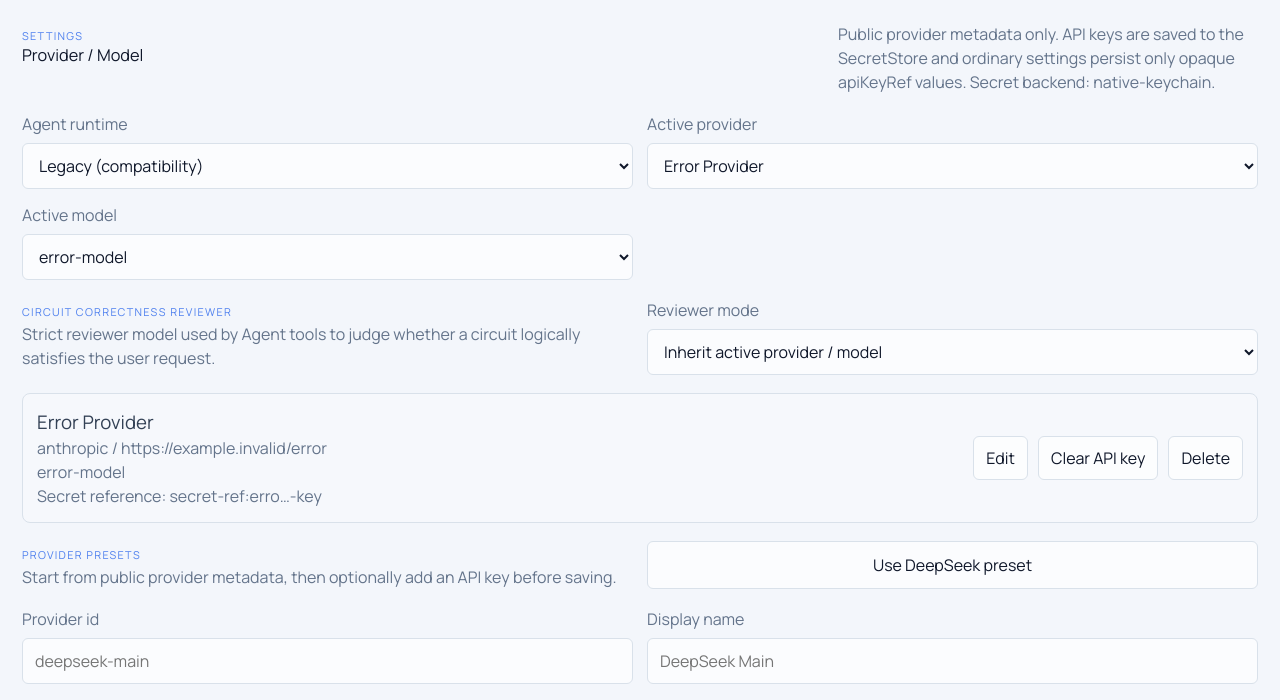
Scenario: ProviderModelSettings › shows a readable error when clearing a saved API key fails
Click the button "Clear API key": (1098, 458) [1038,436,1158,480]
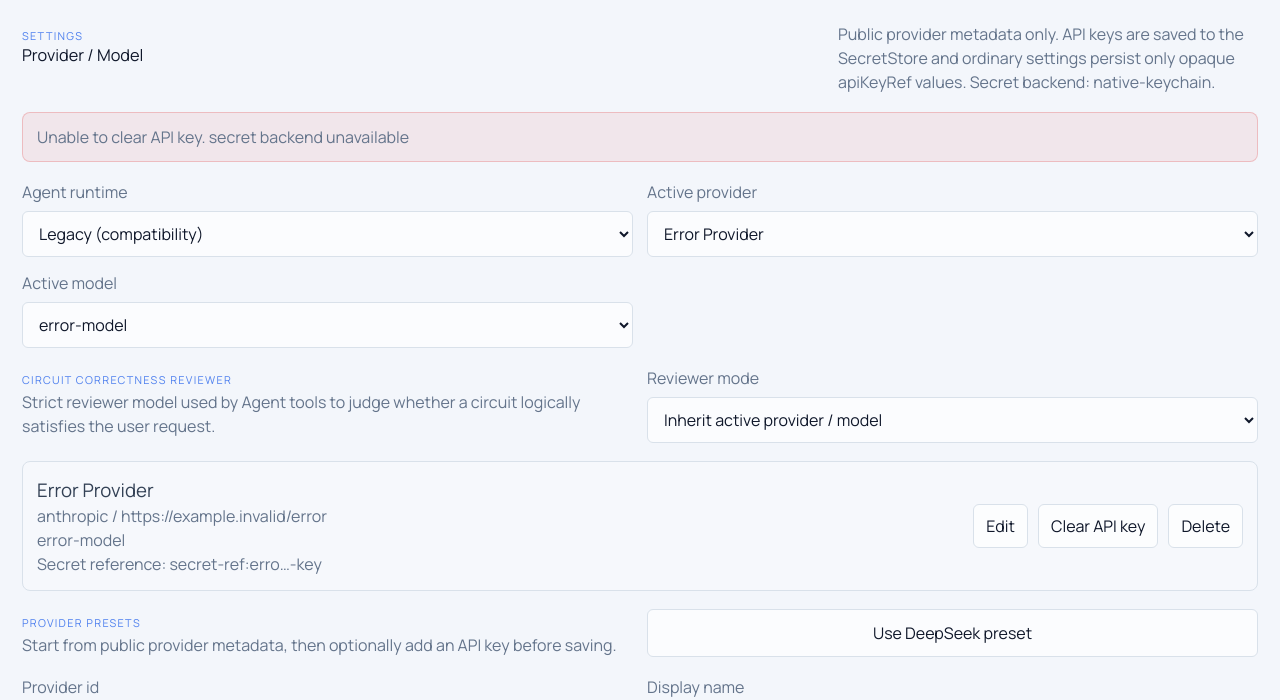
Now the text "Unable to clear API key" is shown, box [37,126,409,148]
Now the text "secret backend unavailable" is shown, box [37,126,409,148]
